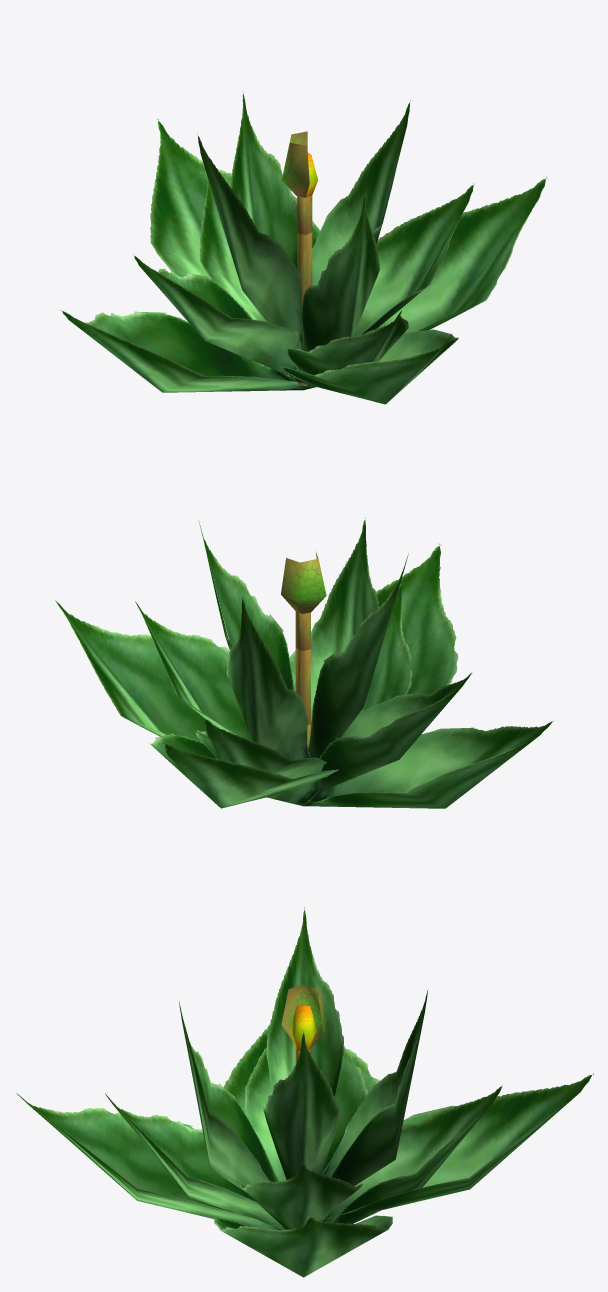
File: LVL_RIV_FLOWERPLANT.fbx
The picture shows the model from 3 angles, top to bottom: view 1: azimuth 30°, elevation 25°; view 2: azimuth 150°, elevation 25°; view 3: azimuth 270°, elevation 25°; orthographic projection.
Parts seen in each view (by area): view 1: LVL_RIV_FLOWERPLANT; view 2: LVL_RIV_FLOWERPLANT; view 3: LVL_RIV_FLOWERPLANT.
Part boxes in pixels (box(x1,y1,x2,y2)): LVL_RIV_FLOWERPLANT: box(60, 91, 546, 404); LVL_RIV_FLOWERPLANT: box(55, 518, 553, 808); LVL_RIV_FLOWERPLANT: box(16, 907, 593, 1277).
Size of the model in its own units: 10049 by 6832 by 10062.
4 materials, 4 textured.
